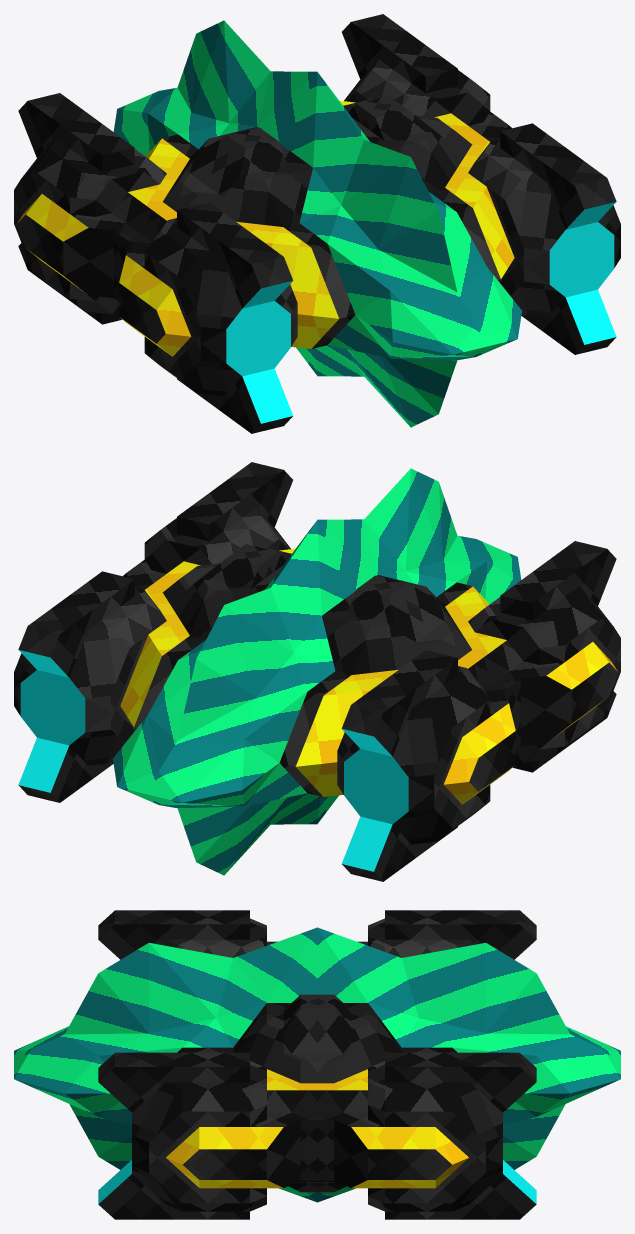
The model's file is alienspaceship.glb.
3 renders of one model, top to bottom at view 1: azimuth 30°, elevation 25°; view 2: azimuth 150°, elevation 25°; view 3: azimuth 270°, elevation 25°, orthographic. The views are drawn at different scales.
Visible parts, largest first — view 1: Cube; view 2: Cube; view 3: Cube.
Boxes of the visible parts, x1=… form: Cube: x1=14, y1=14, x2=620, y2=433; Cube: x1=14, y1=462, x2=620, y2=881; Cube: x1=14, y1=910, x2=620, y2=1219.
Size of the model in its own units: 28 by 18 by 36.
1 material, 1 textured.
